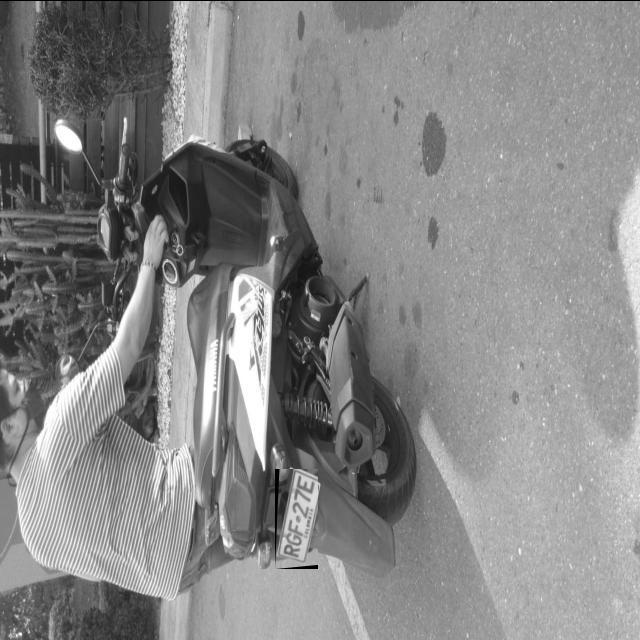plate: (275, 468, 318, 565)
